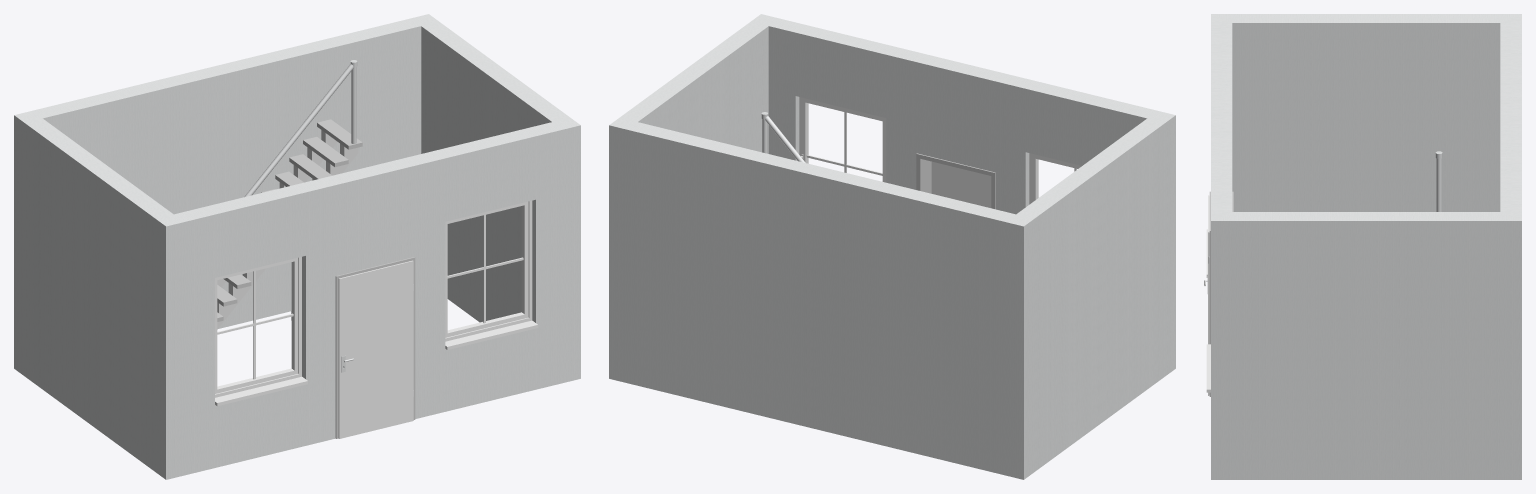
Rendered from housePCON.glb.
The picture shows the model from 3 angles, left to right: view 1: azimuth 30°, elevation 25°; view 2: azimuth 150°, elevation 25°; view 3: azimuth 270°, elevation 25°; orthographic projection. The views are drawn at different scales.
Size of what is drawn, in the model's own units: 5.48 by 3.33 by 3.56.
6 materials, 1 textured.
